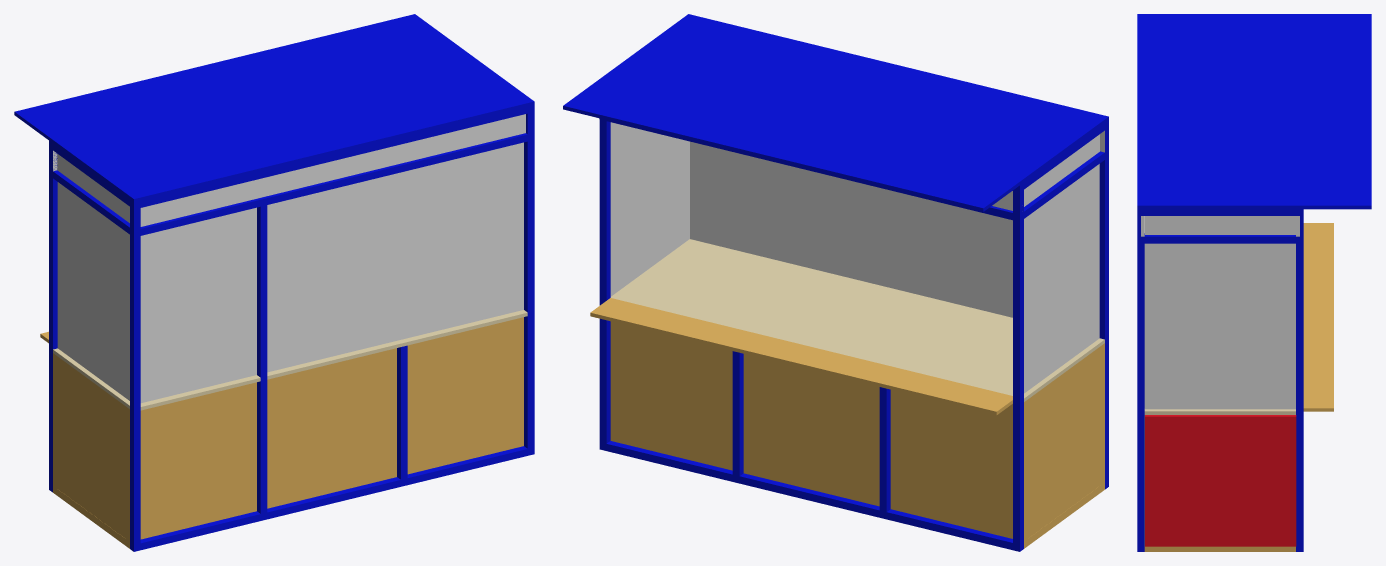
File: gerobak 1.fbx
3 renders of one model, left to right at view 1: azimuth 30°, elevation 25°; view 2: azimuth 150°, elevation 25°; view 3: azimuth 270°, elevation 25°, orthographic. The views are drawn at different scales.
Parts seen in each view (by area): view 1: kaca depan, main body, atap, kerangka, kaca kanan, kaca, alas; view 2: main body, atap, kaca depan, alas, kerangka, kaca kanan, kaca kiri, alas depan, kaca; view 3: atap, kaca kiri, pintu, kerangka, alas depan, kaca, main body, alas.
Boxes of the visible parts, box(x1,y1,x2,y2) form: kaca depan: box(140, 142, 523, 403); main body: box(53, 317, 523, 548); atap: box(14, 14, 534, 202); kerangka: box(49, 105, 534, 551); kaca kanan: box(57, 182, 129, 400); kaca: box(53, 114, 525, 226); alas: box(53, 310, 527, 410); main body: box(610, 321, 1104, 548); atap: box(563, 14, 1108, 211); kaca depan: box(690, 141, 1012, 317); alas: box(610, 239, 1104, 401); kerangka: box(599, 118, 1108, 551); kaca kanan: box(1024, 164, 1099, 393); kaca kiri: box(610, 122, 689, 296); alas depan: box(590, 298, 1012, 415); kaca: box(992, 130, 1104, 210); atap: box(1137, 14, 1371, 209); kaca kiri: box(1145, 243, 1295, 409); pintu: box(1145, 415, 1296, 546); kerangka: box(1137, 209, 1303, 551); alas depan: box(1303, 223, 1333, 411); kaca: box(1141, 216, 1299, 236); main body: box(1144, 415, 1295, 551); alas: box(1144, 409, 1295, 414).
Size of the model in its own units: 242 by 202 by 124.
